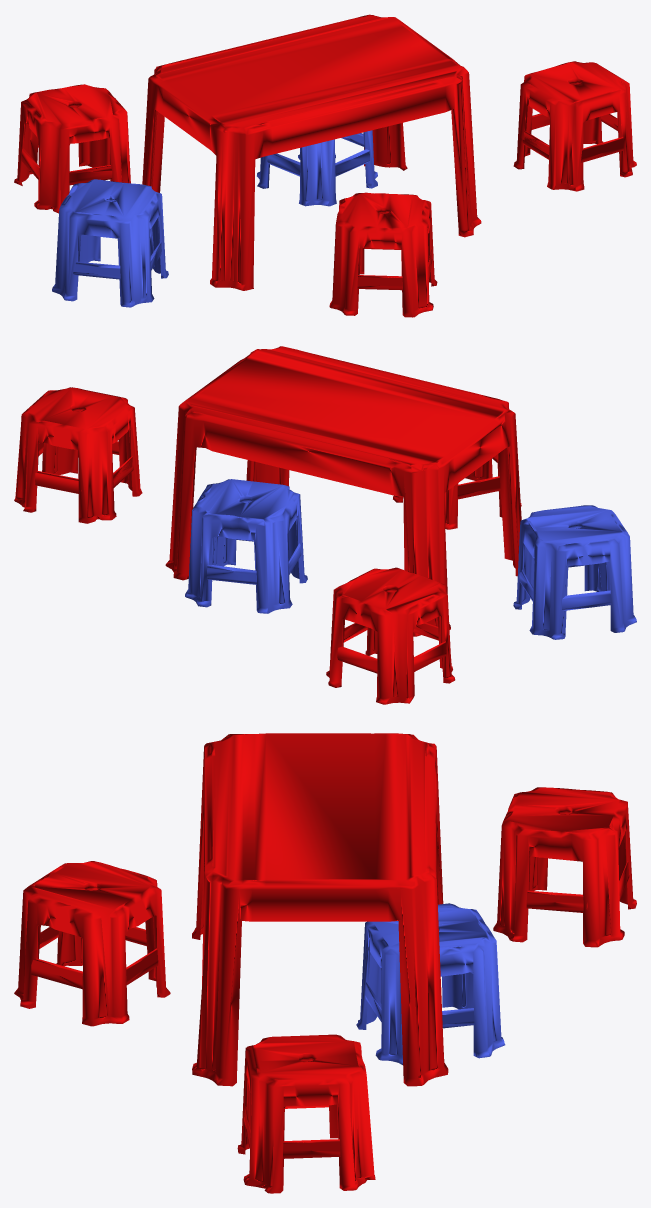
Rendered from table-set.optimized.glb.
3 views of the same model, one above another, from view 1: azimuth 30°, elevation 25°; view 2: azimuth 150°, elevation 25°; view 3: azimuth 270°, elevation 25° (orthographic). The views are drawn at different scales.
Parts seen in each view (by area): view 1: Object_4; view 2: Object_4; view 3: Object_4.
Boxes of the visible parts, x1,y1,x2,y2 form: Object_4: (14,14,636,317); Object_4: (14,346,636,704); Object_4: (14,733,636,1193).
Size of the model in its own units: 14.25 by 3.71 by 10.65.
Materials: 1 (1 with a texture image).
